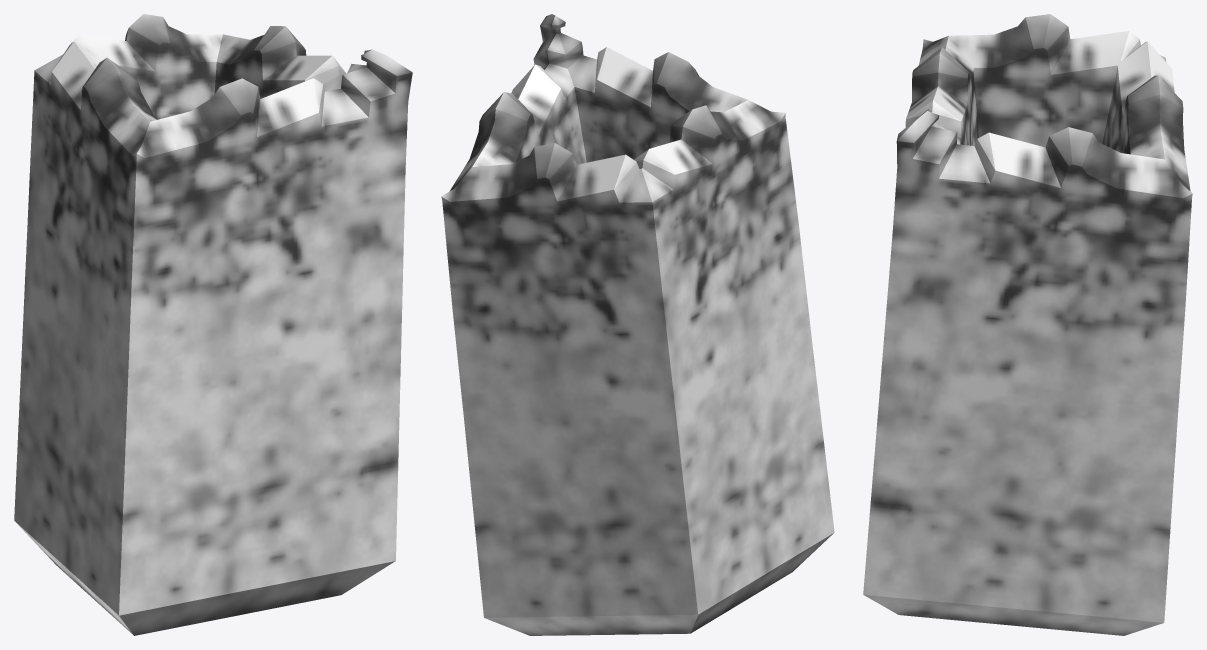
The model's file is Ruins_tower03.fbx.
3 views of the same model, side by side, from view 1: azimuth 30°, elevation 25°; view 2: azimuth 150°, elevation 25°; view 3: azimuth 270°, elevation 25° (orthographic). The views are drawn at different scales.
Visible parts, largest first — view 1: Ruins_tower03; view 2: Ruins_tower03; view 3: Ruins_tower03.
Part boxes in pixels (x1=…): Ruins_tower03: x1=14, y1=14, x2=412, y2=635; Ruins_tower03: x1=441, y1=14, x2=834, y2=635; Ruins_tower03: x1=863, y1=14, x2=1192, y2=635.
Size of the model in its own units: 263 by 472 by 252.
